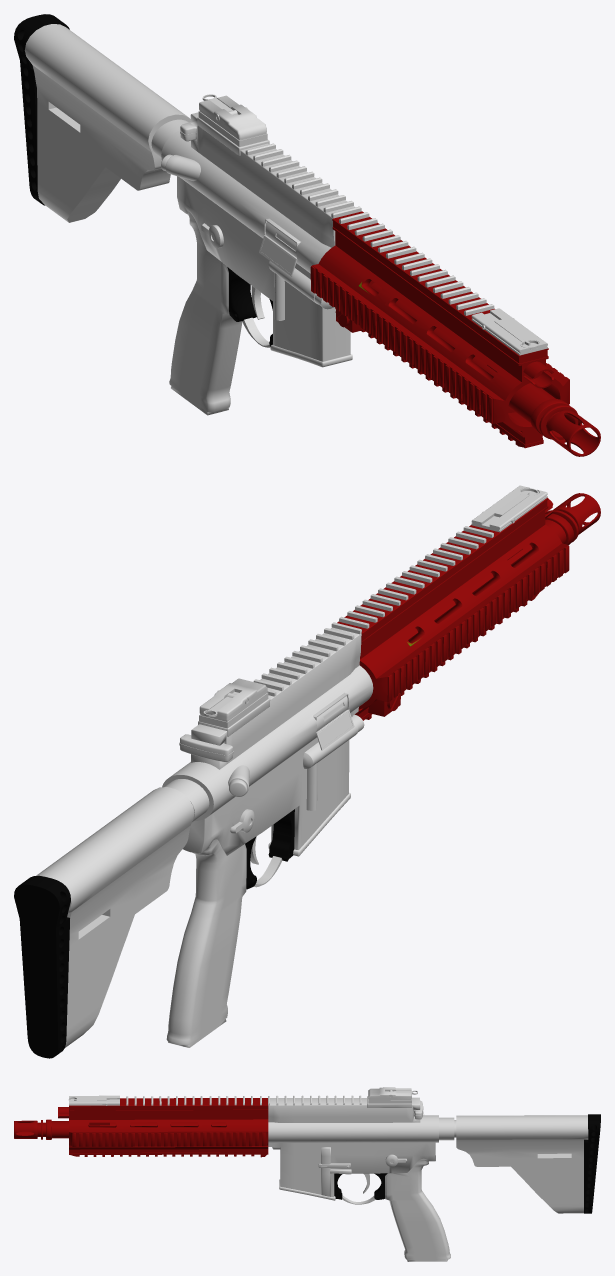
Rendered from HK416 Sights Down.FBX.
3 views of the same model, one above another, from view 1: azimuth 30°, elevation 25°; view 2: azimuth 150°, elevation 25°; view 3: azimuth 270°, elevation 25° (orthographic). The views are drawn at different scales.
Parts seen in each view (by area): view 1: Barrel Part 1, Stock, Main Body, Rail Top, Grip, Barrel part 2, idk what this is called, Flap; view 2: Stock, Barrel Part 1, Main Body, Grip, Rail Top, Barrel part 2, Back pull, idk what this is called, Flap; view 3: Barrel Part 1, Stock, Main Body, Barrel part 2, Grip, Rail Top.
Part boxes in pixels (x1,y1,x2,y2): Barrel Part 1: (310, 211, 600, 456); Stock: (14, 14, 190, 222); Main Body: (161, 112, 354, 367); Rail Top: (197, 95, 547, 355); Grip: (169, 211, 242, 415); Barrel part 2: (151, 119, 330, 273); idk what this is called: (268, 261, 333, 309); Flap: (259, 235, 297, 276); Stock: (14, 787, 194, 1058); Barrel Part 1: (337, 493, 600, 720); Main Body: (182, 627, 361, 889); Grip: (166, 839, 246, 1047); Rail Top: (198, 485, 547, 736); Barrel part 2: (162, 665, 373, 822); Back pull: (179, 734, 233, 761); idk what this is called: (303, 714, 364, 768); Flap: (316, 709, 354, 750); Barrel Part 1: (14, 1098, 268, 1157); Stock: (456, 1114, 600, 1213); Main Body: (268, 1097, 435, 1204); Barrel part 2: (268, 1115, 456, 1142); Grip: (385, 1158, 450, 1261); Rail Top: (69, 1087, 411, 1107).
Size of the model in its own units: 23.81 by 85.67 by 271.
